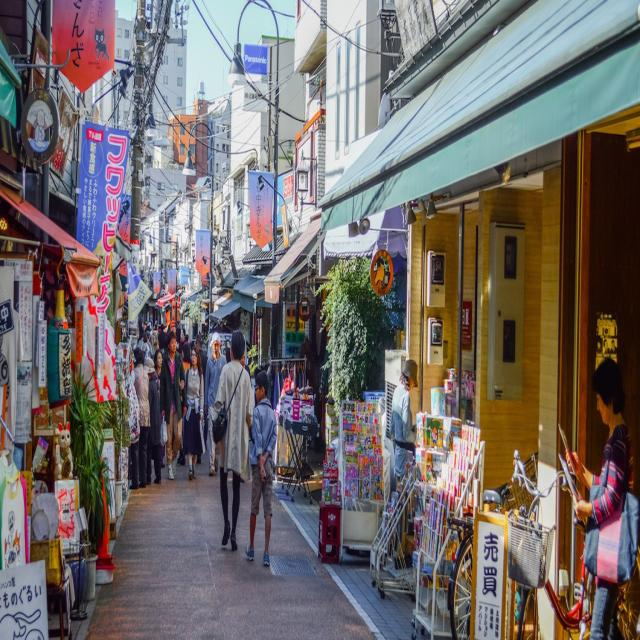body: (556, 355, 640, 639), (212, 329, 254, 551), (246, 368, 278, 566), (120, 310, 202, 370), (159, 329, 187, 481), (389, 358, 418, 482), (179, 345, 205, 480), (126, 346, 150, 491), (205, 332, 227, 474), (143, 357, 162, 485), (194, 335, 208, 453), (239, 349, 253, 391), (153, 348, 163, 388), (181, 342, 192, 373), (126, 444, 133, 484)
